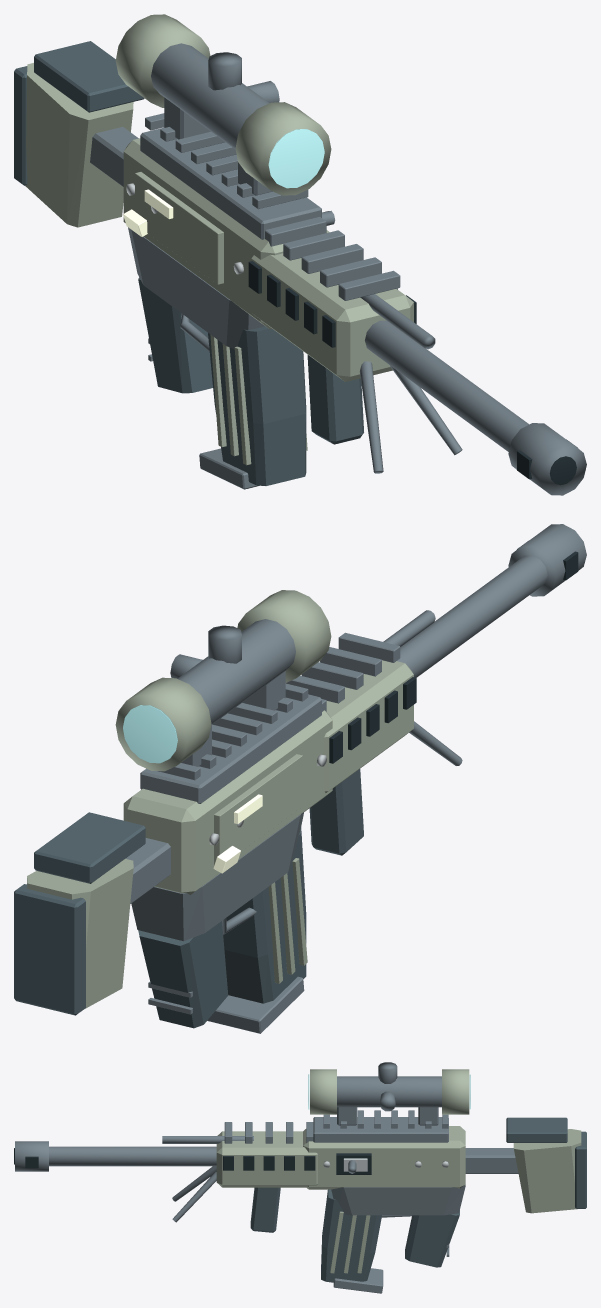
File: squeakshot.glb
3 views of the same model, one above another, from view 1: azimuth 30°, elevation 25°; view 2: azimuth 150°, elevation 25°; view 3: azimuth 270°, elevation 25° (orthographic). The views are drawn at different scales.
Visible parts, largest first — view 1: stock_23, magazine_59, handguard_28, barrel_26, receiver_1, scope_69, receiver_lower_2, receiver_top_cover_3, cheek_rest_25, pistol_grip_17, receiver_side_plate_4, scope_bell_71 (+21 smaller); view 2: receiver_1, stock_pad_24, receiver_lower_2, stock_23, magazine_59, pistol_grip_17, barrel_26, scope_69, handguard_28, receiver_top_cover_3, cheek_rest_25, receiver_side_plate_4 (+18 smaller); view 3: receiver_1, handguard_28, stock_23, receiver_lower_2, barrel_26, magazine_59, scope_69, receiver_top_cover_3, pistol_grip_17, cheek_rest_25, stock_beam_22, scope_bell_70 (+12 smaller).
Boxes of the visible parts, x1=… form: stock_23: x1=25, y1=63, x2=133, y2=227; magazine_59: x1=208, y1=326, x2=306, y2=485; handguard_28: x1=251, y1=253, x2=413, y2=381; barrel_26: x1=365, y1=320, x2=528, y2=451; receiver_1: x1=123, y1=138, x2=329, y2=329; scope_69: x1=151, y1=43, x2=269, y2=149; receiver_lower_2: x1=128, y1=227, x2=264, y2=348; receiver_top_cover_3: x1=140, y1=127, x2=321, y2=239; cheek_rest_25: x1=34, y1=41, x2=144, y2=112; pistol_grip_17: x1=138, y1=277, x2=212, y2=393; receiver_side_plate_4: x1=135, y1=172, x2=223, y2=284; scope_bell_71: x1=235, y1=102, x2=331, y2=195; receiver_1: x1=123, y1=710, x2=332, y2=894; stock_pad_24: x1=14, y1=884, x2=85, y2=1015; receiver_lower_2: x1=131, y1=812, x2=303, y2=941; stock_23: x1=27, y1=858, x2=133, y2=1008; magazine_59: x1=223, y1=827, x2=306, y2=1003; pistol_grip_17: x1=138, y1=921, x2=228, y2=1028; barrel_26: x1=397, y1=555, x2=547, y2=677; scope_69: x1=177, y1=619, x2=295, y2=724; handguard_28: x1=324, y1=660, x2=413, y2=792; receiver_top_cover_3: x1=140, y1=694, x2=321, y2=803; cheek_rest_25: x1=34, y1=812, x2=145, y2=883; receiver_side_plate_4: x1=214, y1=754, x2=302, y2=865; receiver_1: x1=303, y1=1126, x2=465, y2=1189; handguard_28: x1=216, y1=1131, x2=317, y2=1187; stock_23: x1=513, y1=1129, x2=581, y2=1213; receiver_lower_2: x1=331, y1=1185, x2=465, y2=1215; barrel_26: x1=49, y1=1146, x2=216, y2=1166; magazine_59: x1=321, y1=1189, x2=381, y2=1282; scope_69: x1=337, y1=1076, x2=441, y2=1107; receiver_top_cover_3: x1=313, y1=1117, x2=448, y2=1142; pistol_grip_17: x1=405, y1=1210, x2=459, y2=1267; cheek_rest_25: x1=506, y1=1117, x2=567, y2=1142; stock_beam_22: x1=465, y1=1148, x2=518, y2=1173; scope_bell_70: x1=442, y1=1069, x2=469, y2=1114.
Size of the model in its own units: 0.2365 by 0.7152 by 1.69.
